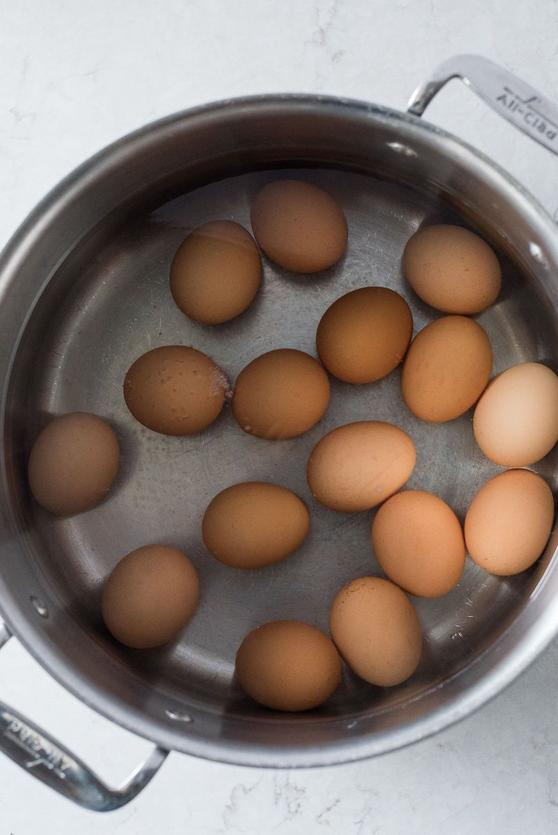egg: (107, 344, 226, 436), (171, 210, 262, 330), (230, 614, 341, 704), (25, 409, 119, 515), (86, 549, 194, 640), (310, 423, 416, 514), (200, 484, 316, 566), (230, 343, 329, 434)
